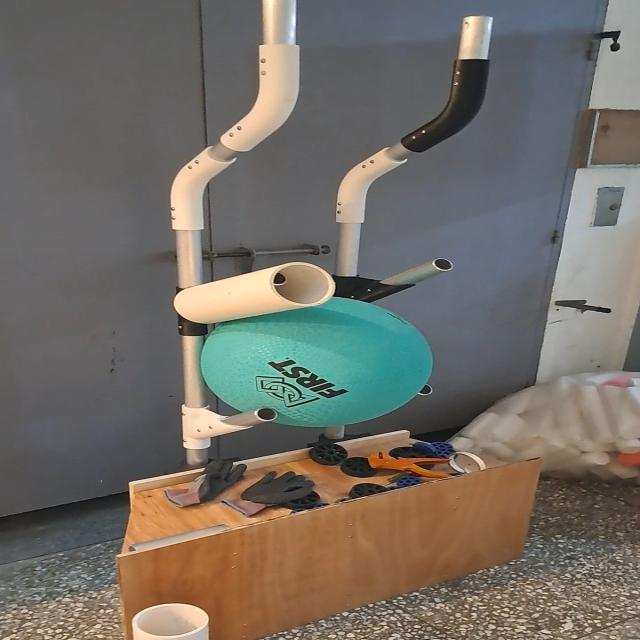ALGAE: (198, 293, 438, 429)
CORAL: (172, 262, 335, 325), (124, 602, 220, 640)
